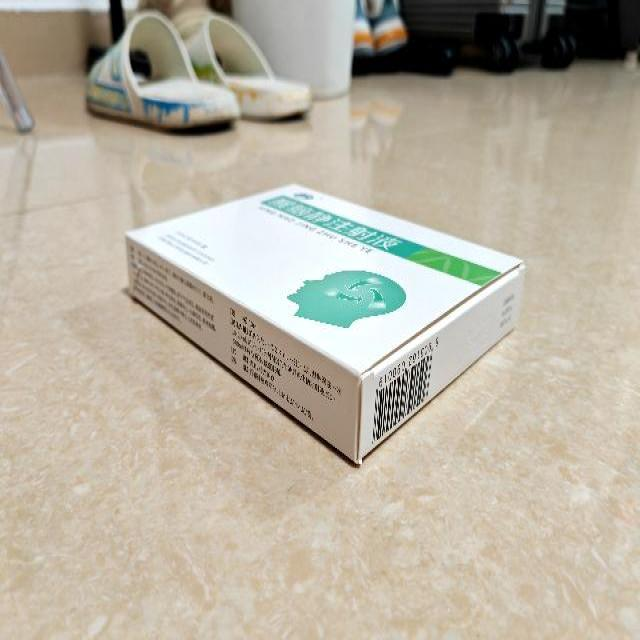box: (124, 182, 526, 469)
